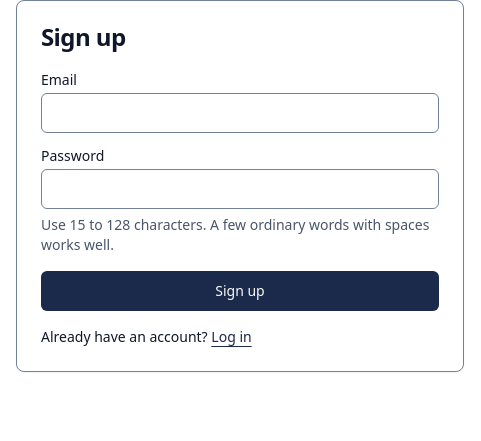
Scenario: SPEC-010 Story-002 auth restyle › SPEC-010 T-022 /signup uses Card, Label, Input and Button; errors sit beside the field with icon, aria-invalid and aria-describedby, and focus goes to the first
Click the button.
click(240, 291)  # box [41,271,439,311]
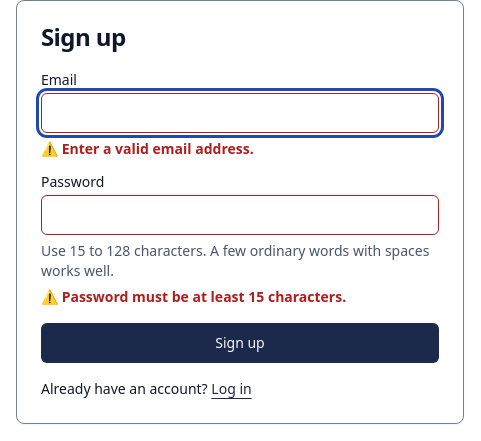
expect the text "⚠" next to "Enter a valid email address." is shown: met, box [41,139,62,158]
